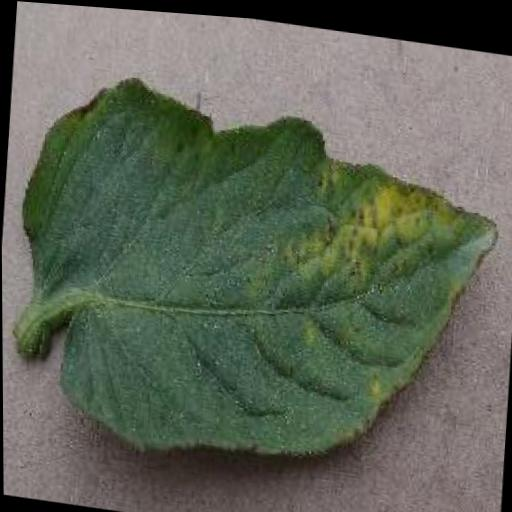Bacterial Spot: (0, 58, 512, 495)
